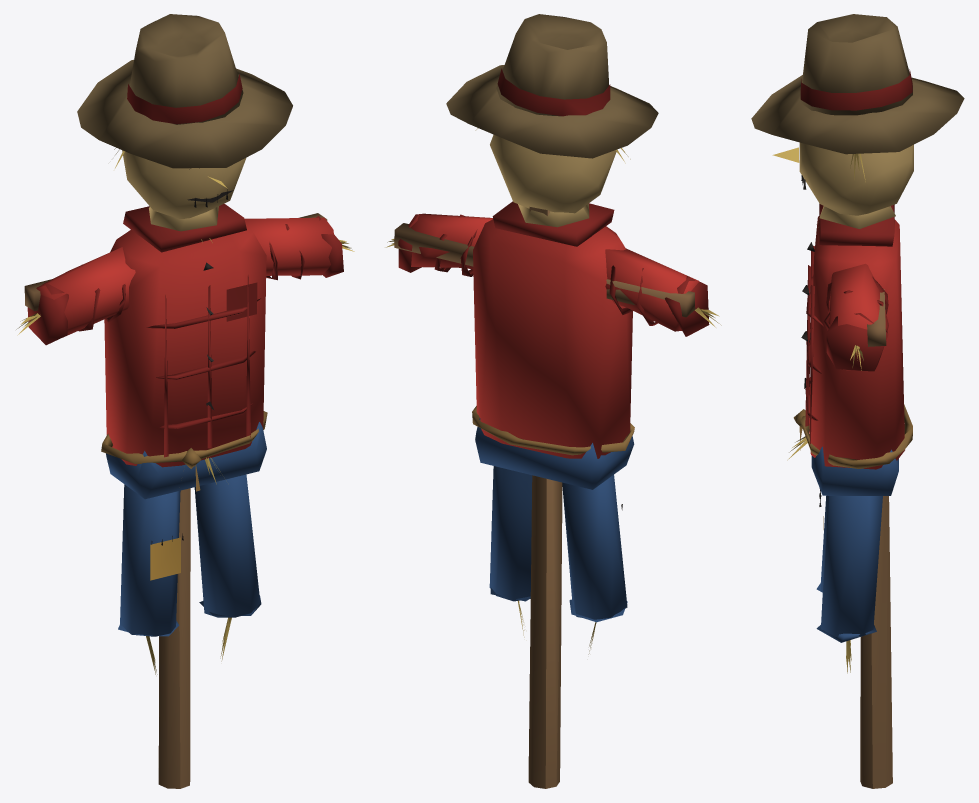
The model's file is scarecrow.far.glb.
3 renders of one model, left to right at view 1: azimuth 30°, elevation 25°; view 2: azimuth 150°, elevation 25°; view 3: azimuth 270°, elevation 25°, orthographic.
Parts seen in each view (by area): view 1: scarecrow_far; view 2: scarecrow_far; view 3: scarecrow_far.
Part boxes in pixels (x1,y1,x2,y2): scarecrow_far: [16, 14, 354, 788]; scarecrow_far: [385, 14, 721, 788]; scarecrow_far: [751, 14, 964, 788].
Size of the model in its own units: 0.9925 by 2.12 by 0.5421.
